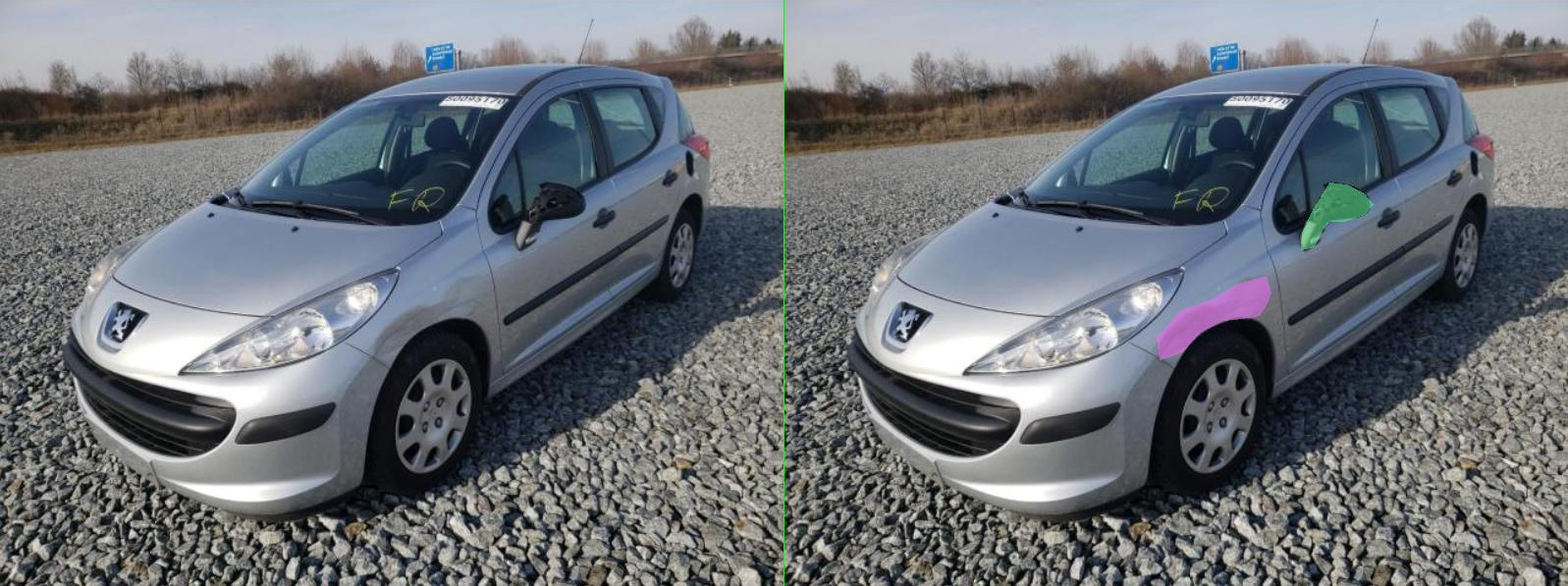Broken part: (1034, 183, 1177, 249)
Dent: (745, 276, 973, 359)
